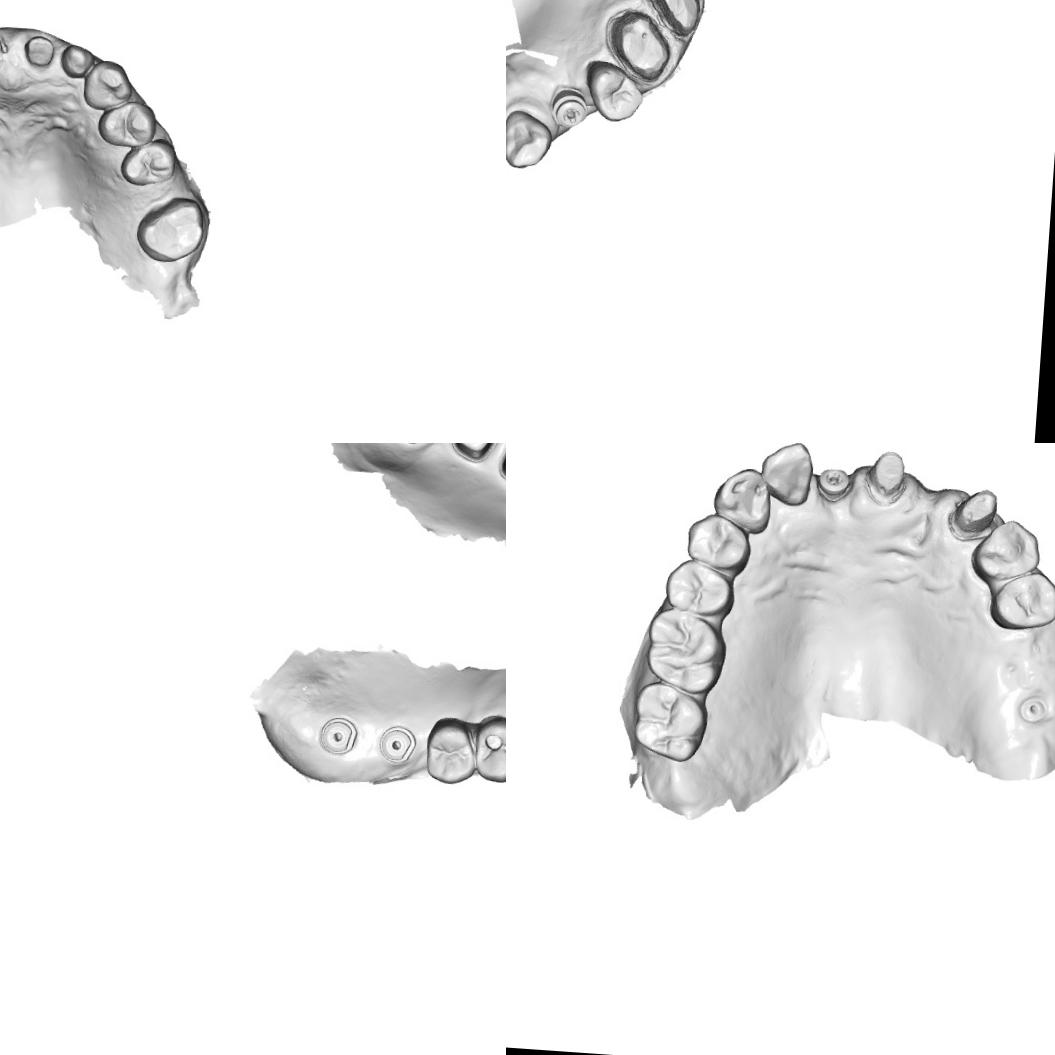abutment: (448, 443, 503, 467)
canine: (708, 464, 774, 536), (506, 103, 555, 171), (80, 57, 134, 112)
crown: (600, 6, 674, 87), (946, 484, 1002, 540), (637, 0, 705, 40), (863, 447, 909, 505), (21, 30, 57, 70), (58, 42, 95, 80)
implant: (310, 707, 366, 765), (368, 716, 423, 772)
implant_plus: (548, 84, 592, 132), (812, 464, 852, 504)
incisor: (756, 443, 816, 508)
molar: (640, 608, 726, 694), (628, 678, 711, 764), (132, 192, 206, 264)
premolar: (968, 515, 1044, 586), (660, 556, 737, 617), (986, 567, 1055, 634), (580, 56, 647, 124), (683, 511, 752, 574), (421, 715, 481, 787), (117, 134, 178, 188), (95, 98, 158, 149), (469, 708, 506, 786)
